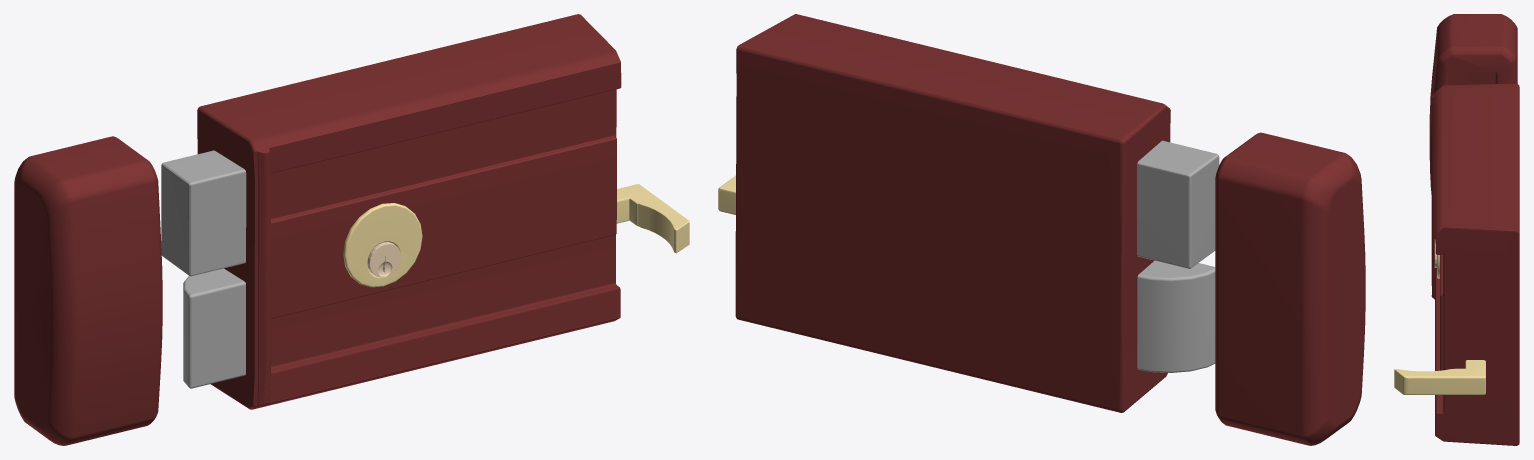
The model's file is doorLock.fbx.
3 views of the same model, side by side, from view 1: azimuth 30°, elevation 25°; view 2: azimuth 150°, elevation 25°; view 3: azimuth 270°, elevation 25° (orthographic). The views are drawn at different scales.
Parts seen in each view (by area): view 1: pCube2; view 2: pCube2; view 3: pCube2.
Boxes of the visible parts, x1,y1,x2,y2 form: pCube2: [14, 14, 689, 445]; pCube2: [718, 14, 1365, 445]; pCube2: [1394, 14, 1519, 445].
Bounding box in the file's own units: 19.55 × 8.25 × 4.34.
